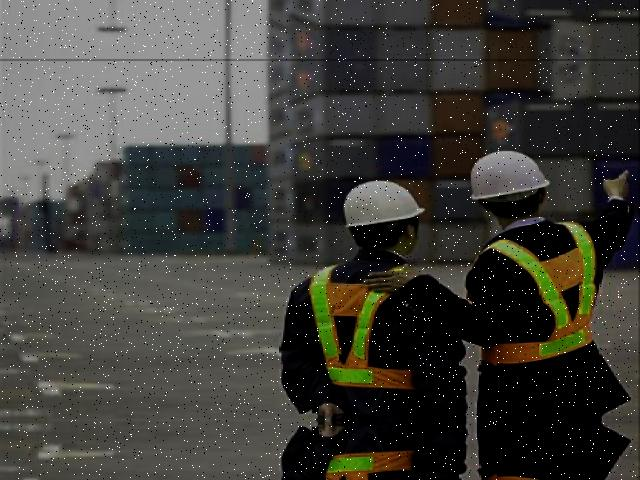Helmet: (458, 144, 557, 206), (338, 177, 433, 232)
